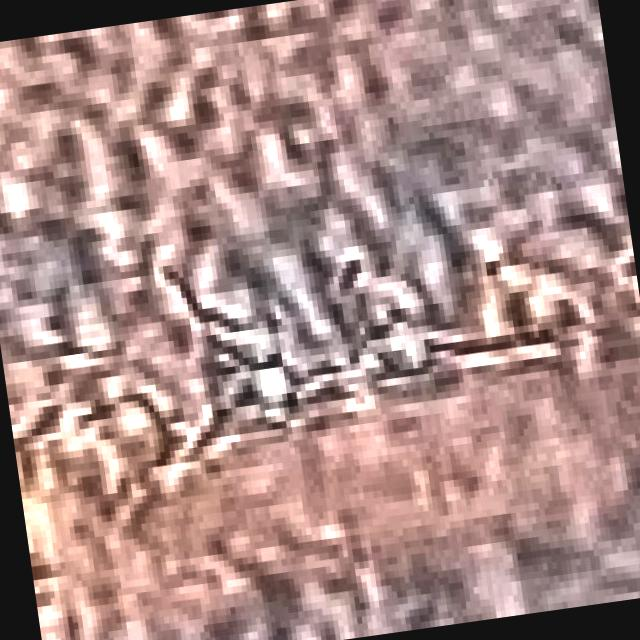crack: (353, 284, 584, 410)
